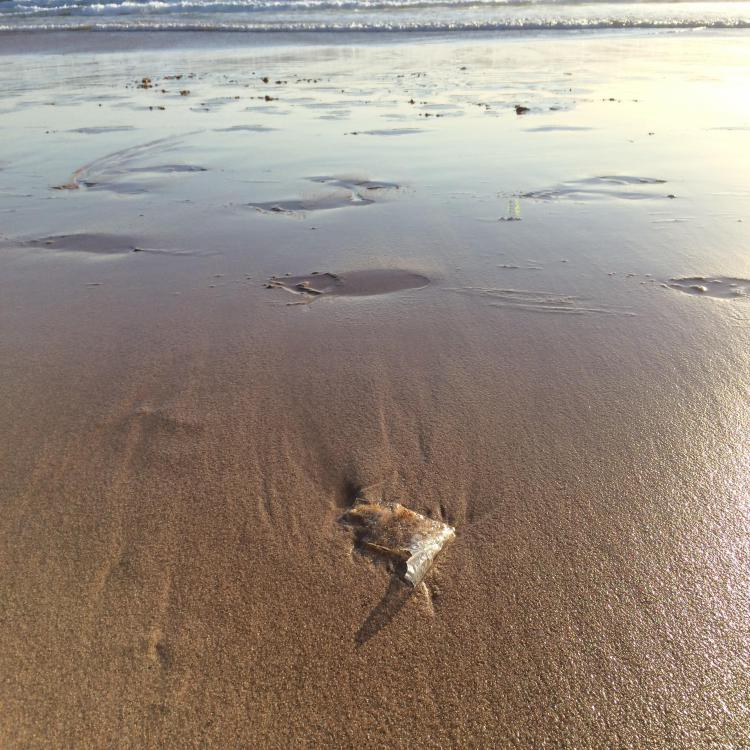Plastic film: (346, 498, 455, 591)
